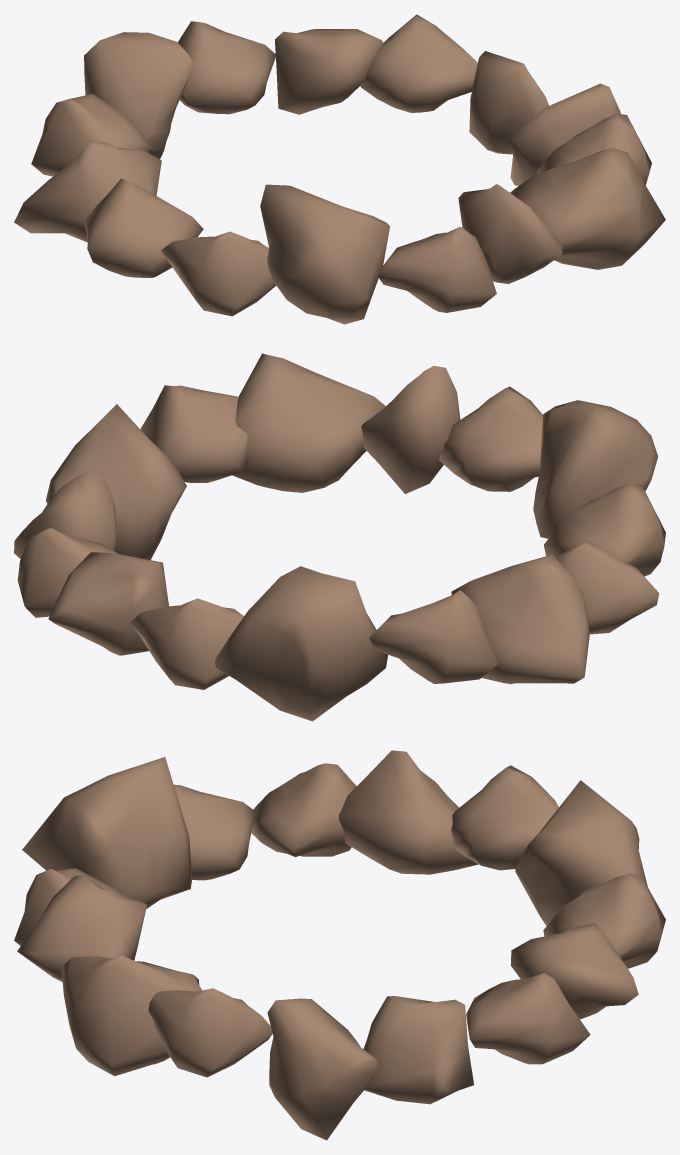
Rendered from FIRE.fbx.
3 renders of one model, top to bottom at view 1: azimuth 30°, elevation 25°; view 2: azimuth 150°, elevation 25°; view 3: azimuth 270°, elevation 25°, orthographic. The views are drawn at different scales.
Parts seen in each view (by area): view 1: FIRE; view 2: FIRE; view 3: FIRE.
Part boxes in pixels (bbox=[...]): FIRE: bbox=[14, 14, 665, 324]; FIRE: bbox=[14, 353, 665, 721]; FIRE: bbox=[14, 750, 665, 1140].
Bounding box in the file's own units: 563 × 155 × 550.
